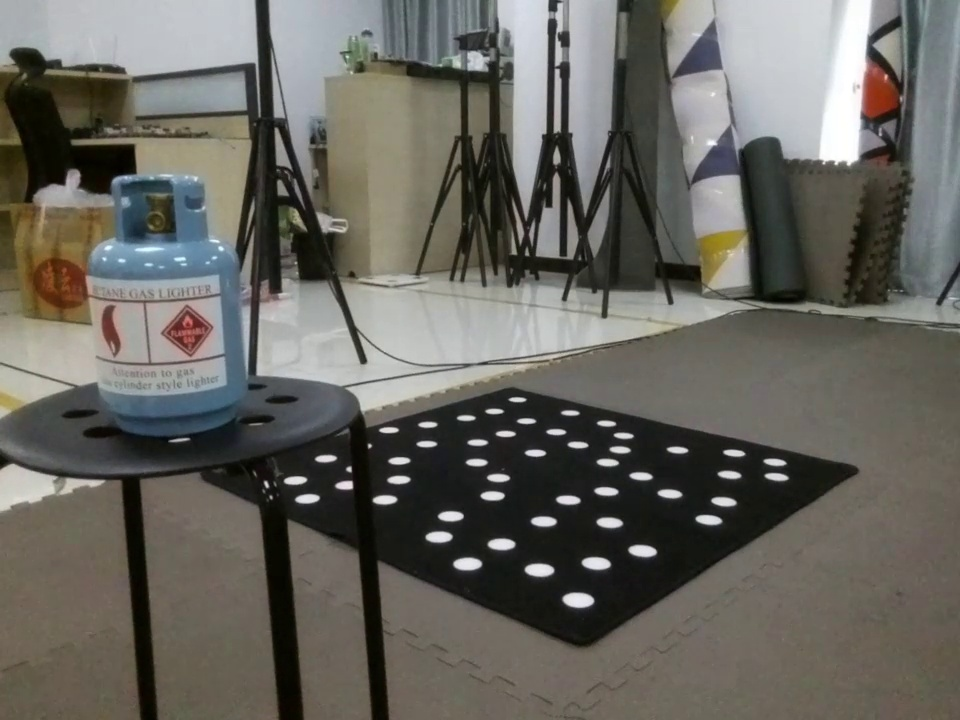gas tank: (66, 166, 281, 434)
